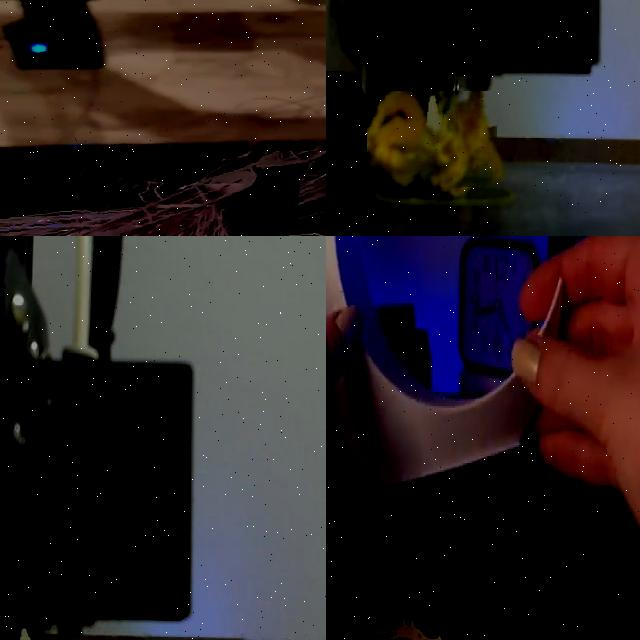spaghetti: (0, 151, 326, 236), (367, 91, 496, 191)
